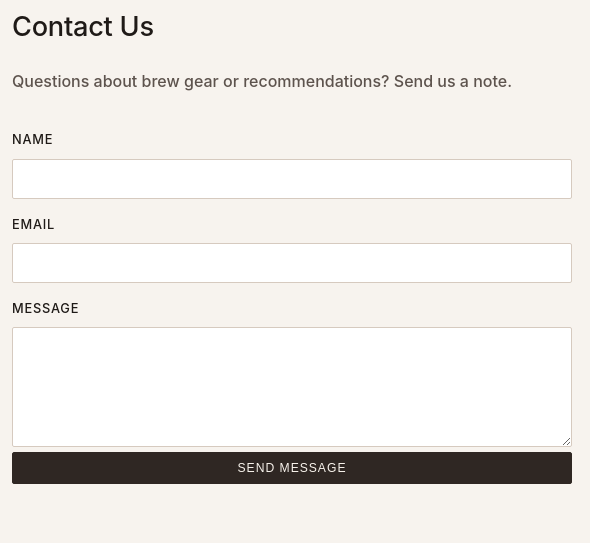
Test case: ContactPage › submits successfully with valid input
In the field labelled "Name": (292, 179) [12,158,572,199], type "Taylor"
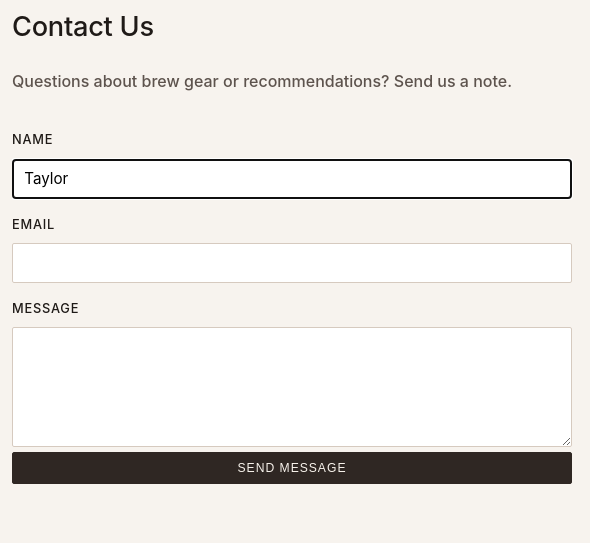
In the field labelled "Email": (292, 263) [12,243,572,283], type "taylor@example.com"
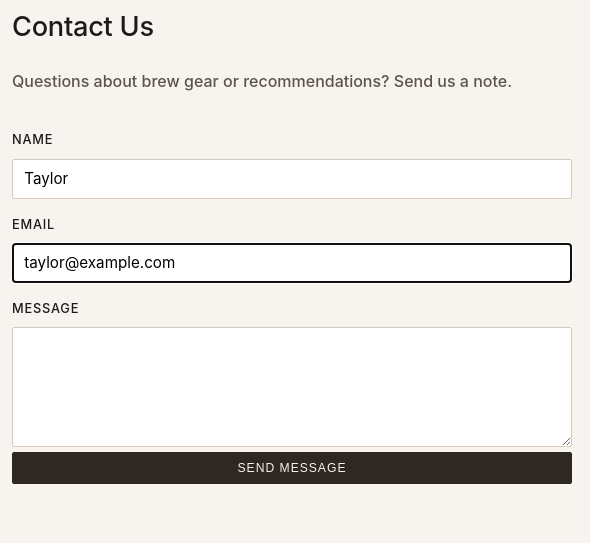
In the text box labelled "Message": (292, 387) [12,327,572,447], type "I need filters for pour over."
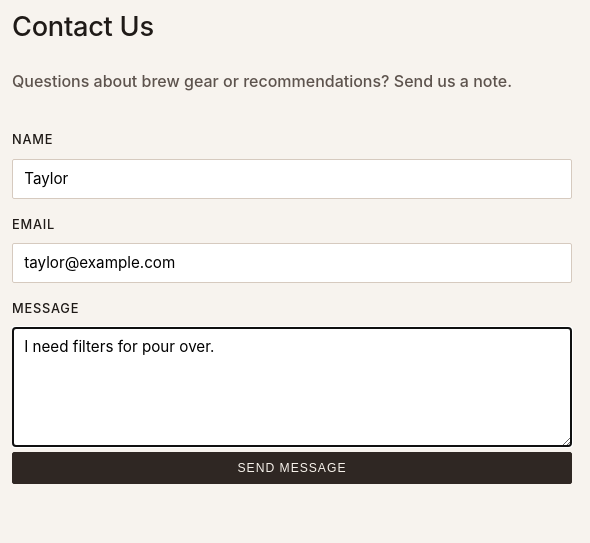
Click the button "Send message": (292, 468) [12,452,572,484]
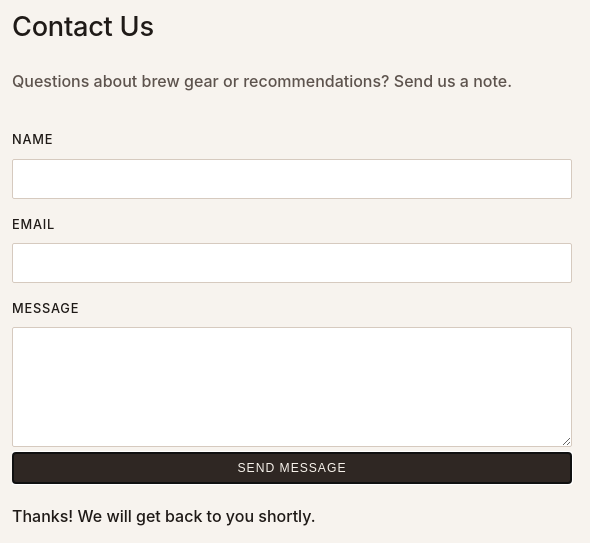
Check: the text "Thanks! We will get back to you shortly." is shown, box [12,506,316,526]
